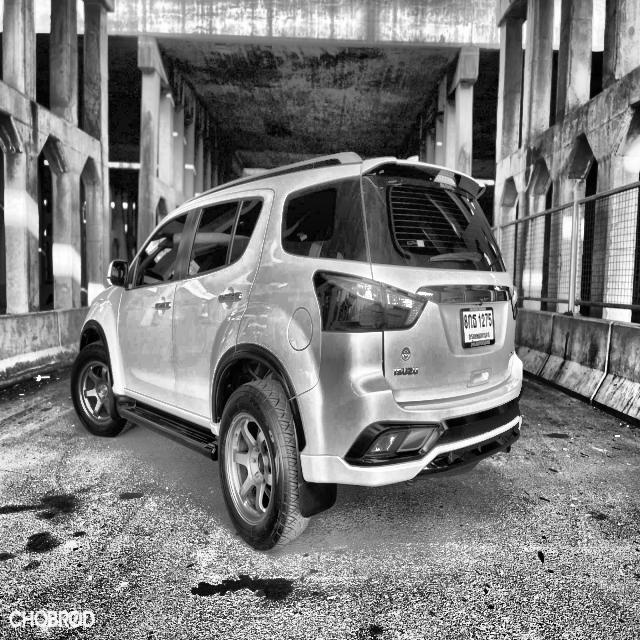license-plate: (454, 302, 501, 355)
